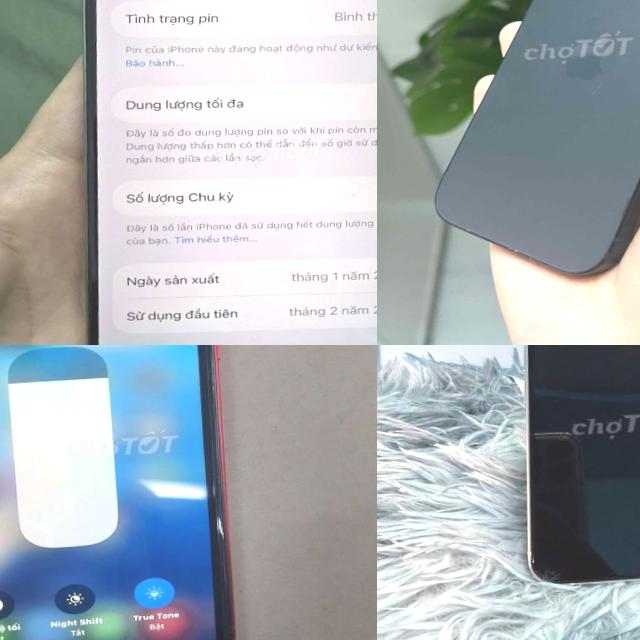gen_12_13: (514, 345, 640, 592)
gen_15: (45, 0, 377, 345)
gen_16: (436, 0, 640, 275)
gen_x_xs: (0, 345, 236, 640)
scratch: (442, 214, 490, 258), (502, 241, 550, 278)
